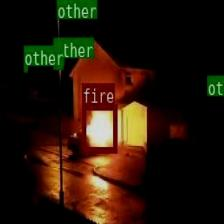fire: (81, 103, 116, 151)
